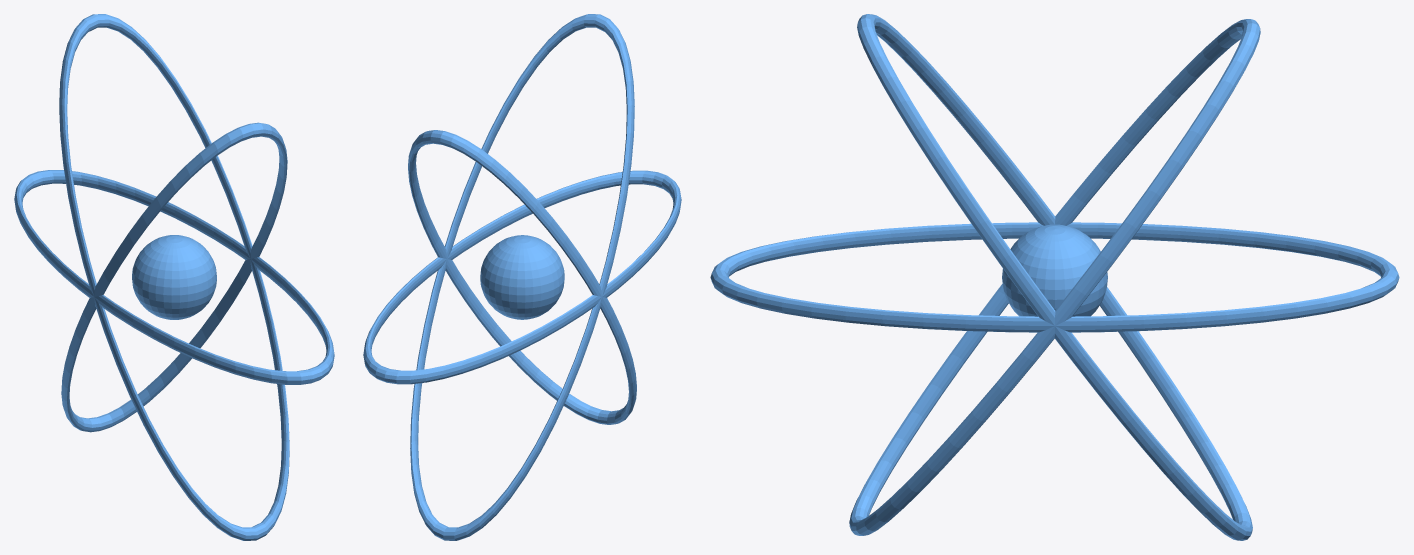
File: reactIcon.glb
The picture shows the model from 3 angles, left to right: view 1: azimuth 30°, elevation 25°; view 2: azimuth 150°, elevation 25°; view 3: azimuth 270°, elevation 25°; orthographic projection. The views are drawn at different scales.
Visible parts, largest first — view 1: Torus.001, Torus.002, Torus.003, Sphere; view 2: Torus.002, Torus.003, Torus.001, Sphere; view 3: Torus.003, Torus.002, Torus.001, Sphere.
Part boxes in pixels (bbox=[...]): Torus.001: bbox=[59, 14, 289, 540]; Torus.002: bbox=[61, 122, 287, 432]; Torus.003: bbox=[14, 170, 334, 384]; Sphere: bbox=[132, 235, 216, 319]; Torus.002: bbox=[410, 14, 634, 540]; Torus.003: bbox=[363, 170, 681, 384]; Torus.001: bbox=[408, 130, 636, 424]; Sphere: bbox=[480, 235, 564, 319]; Torus.003: bbox=[710, 222, 1399, 332]; Torus.002: bbox=[857, 14, 1252, 540]; Torus.001: bbox=[849, 19, 1260, 535]; Sphere: bbox=[1002, 224, 1107, 316].
Size of the model in its own units: 0.085 by 0.2117 by 0.2549.
4 materials, 4 textured.
